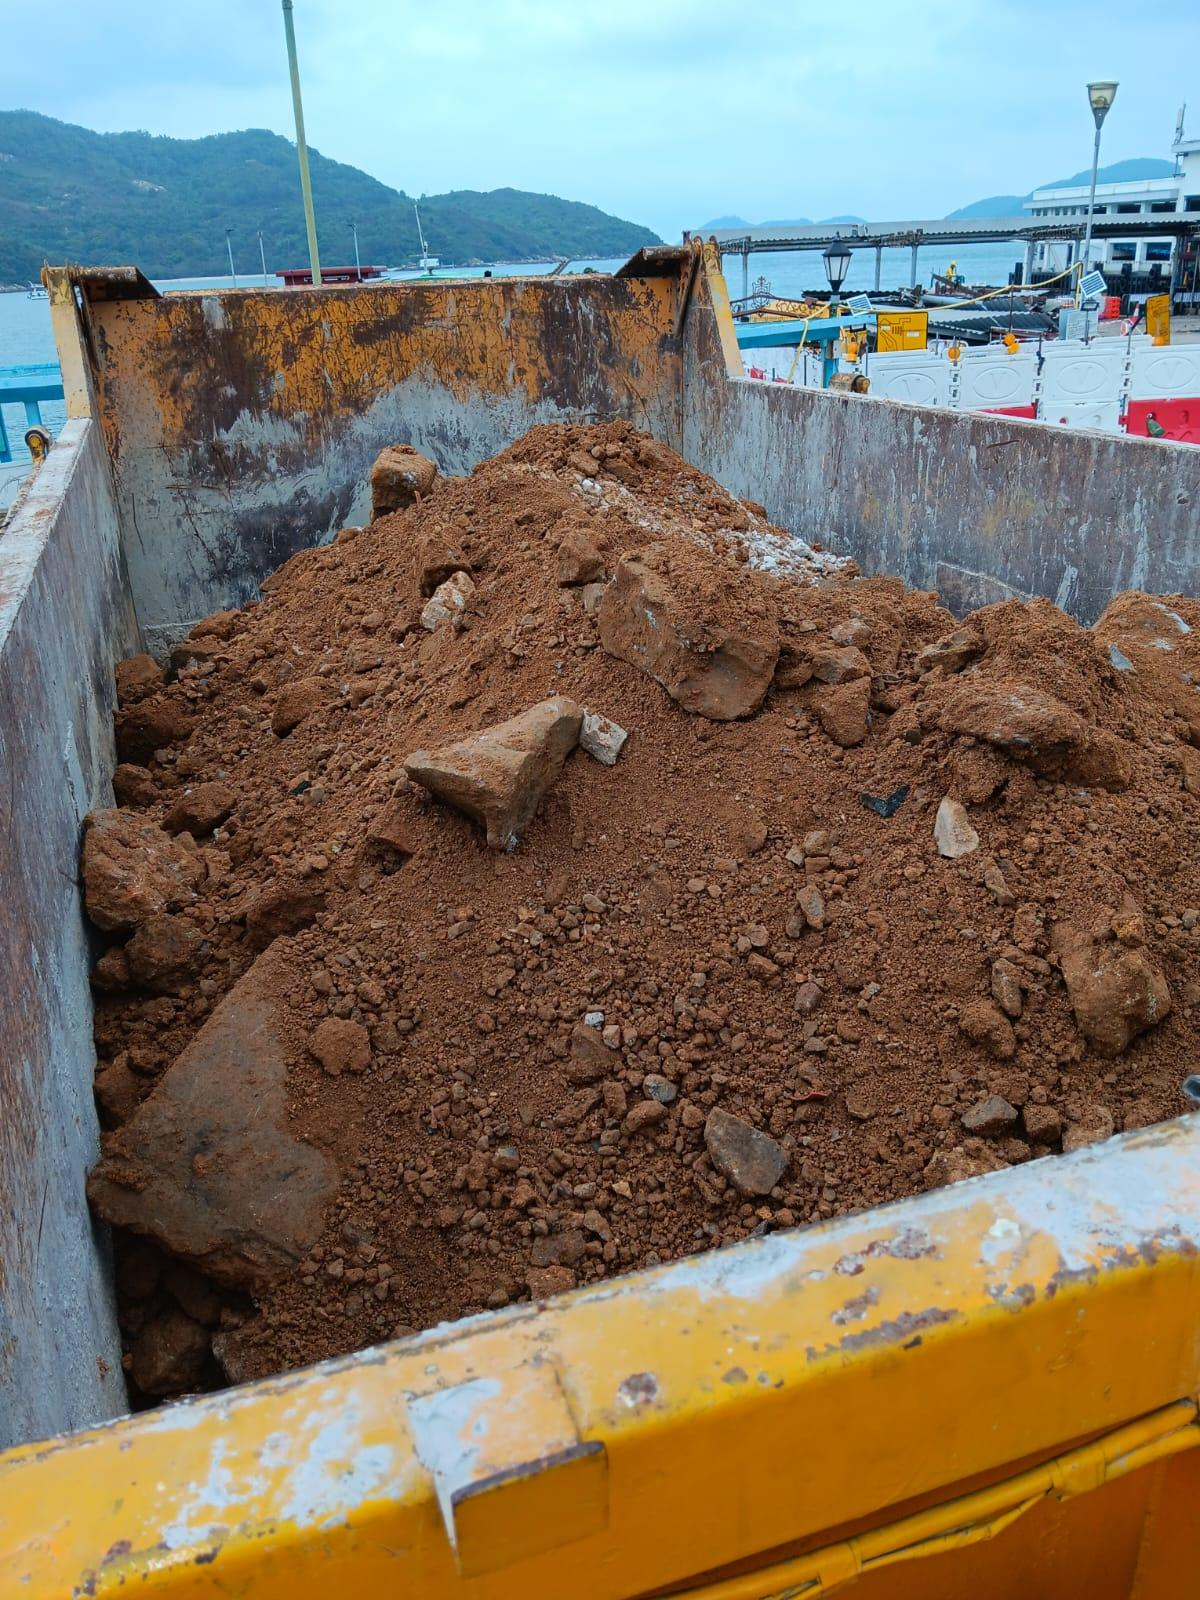dry: (95, 420, 1200, 1412)
